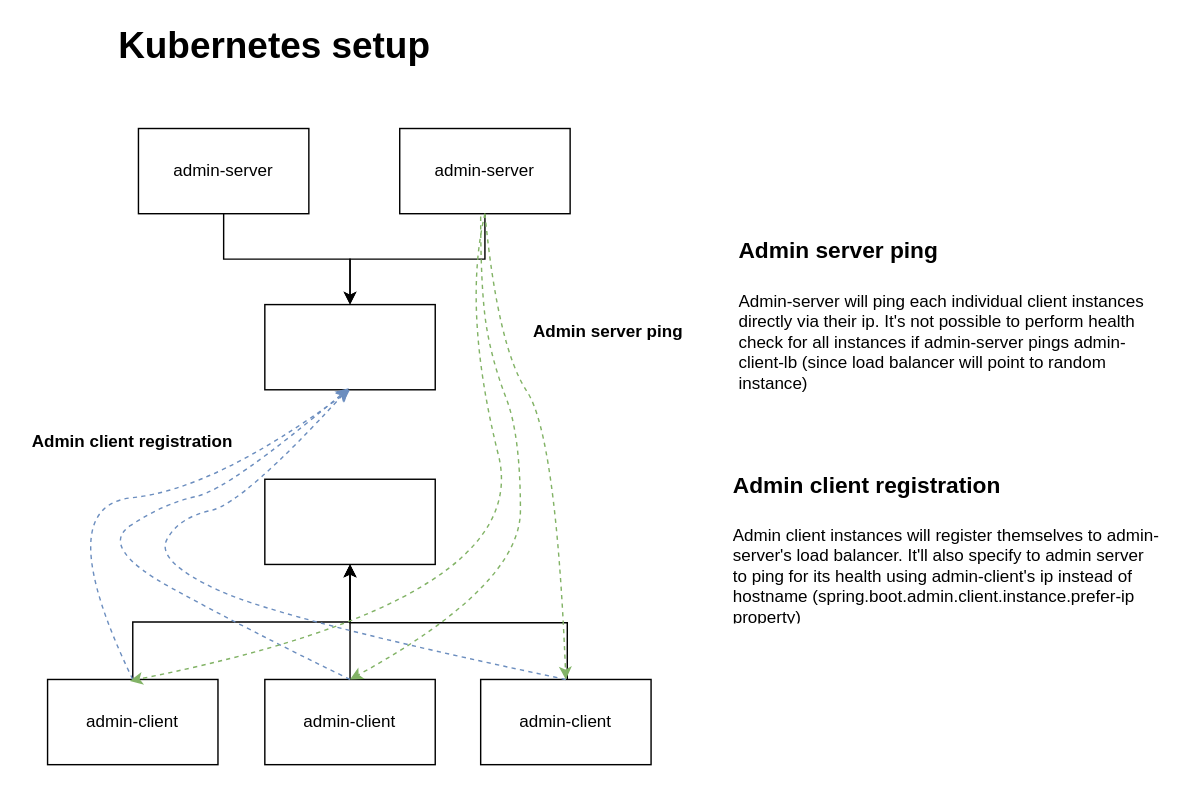
Some shapes in this 1190 by 790 pixel diagram are drawn without their labels. The centre of each missing label's shape, as x and y in pixels:
"admin-client-lb" belongs at (x=349, y=521).
"admin-server-lb" belongs at (x=349, y=346).
